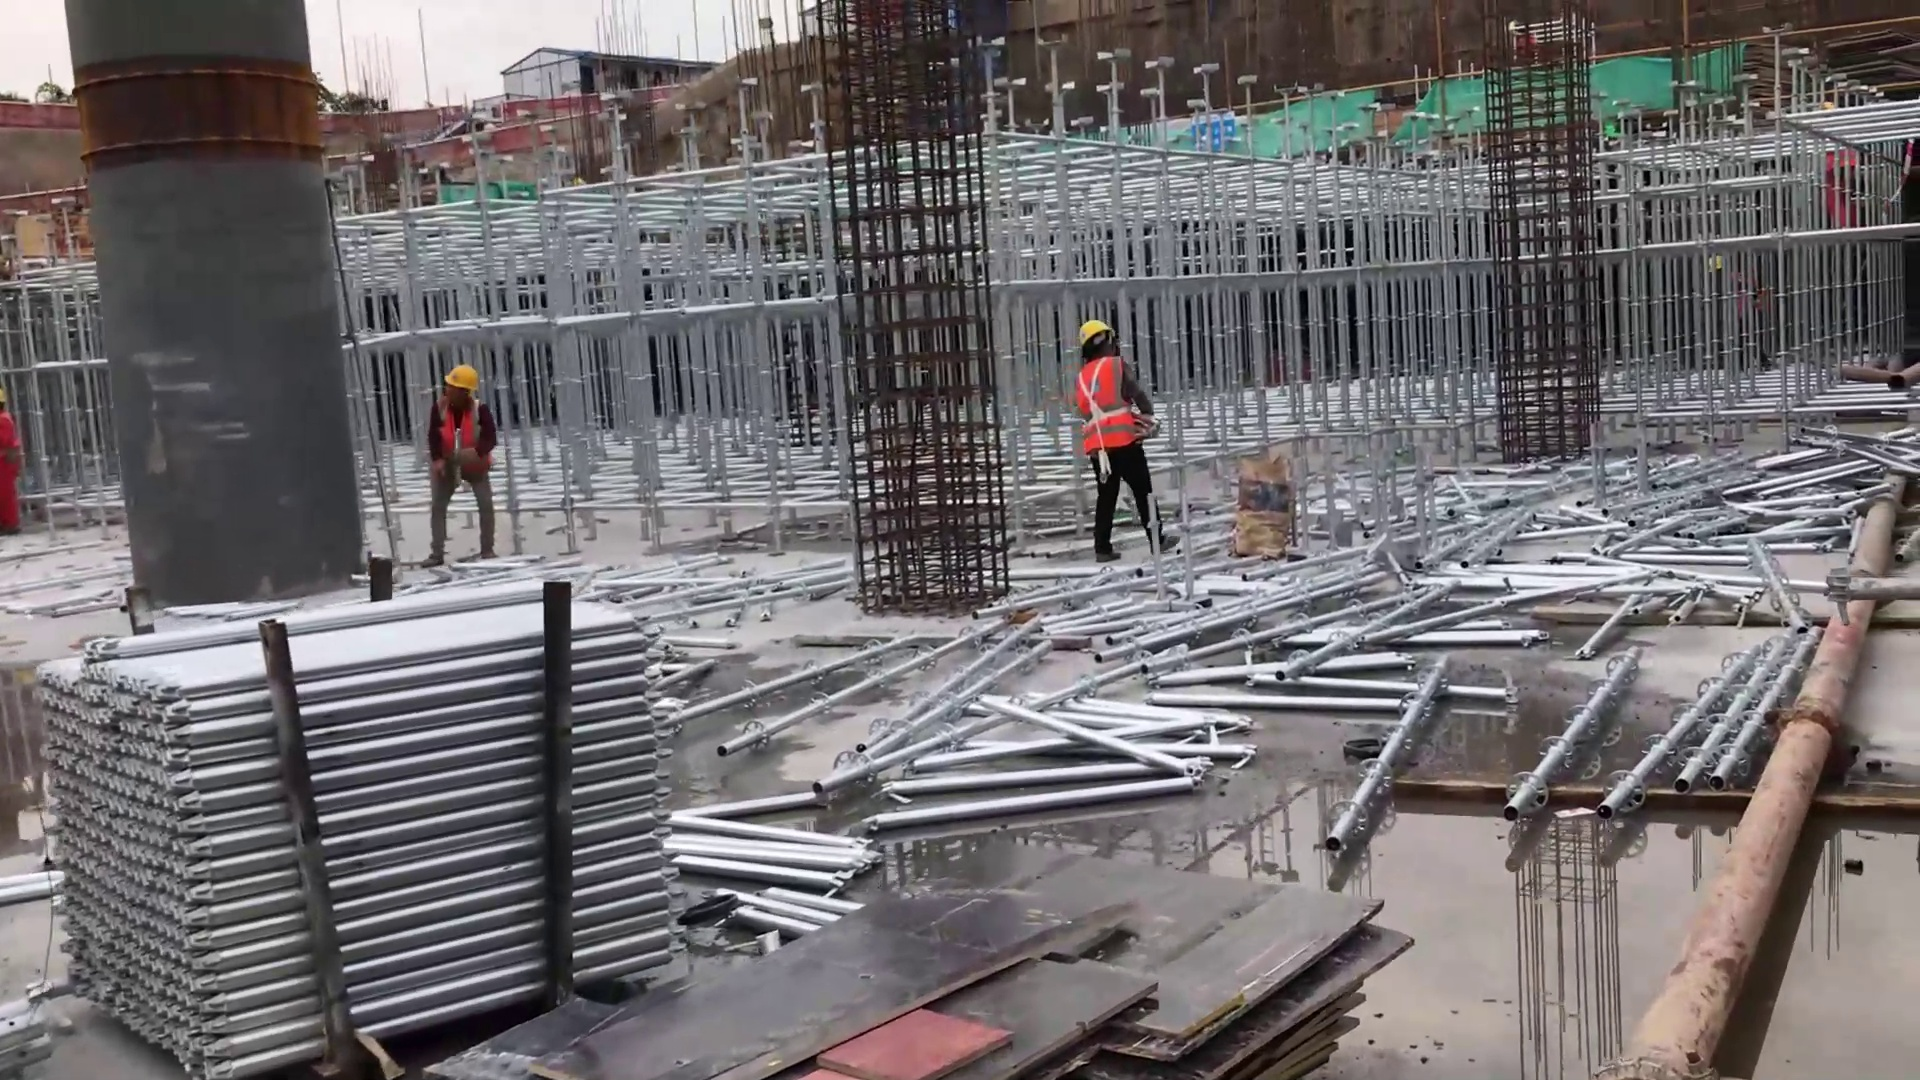board: (591, 860, 1400, 1080)
helmet: (1075, 317, 1117, 352), (444, 366, 482, 391)
person: (1074, 315, 1185, 564), (419, 365, 508, 570), (1, 389, 36, 541)
scaffold: (49, 568, 692, 1071)
slogan: (1190, 110, 1240, 158)
vest: (1077, 356, 1145, 460), (432, 398, 488, 475)
